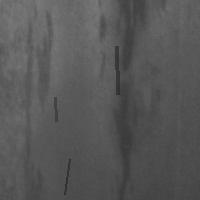inclusion: (10, 6, 53, 189), (110, 1, 144, 200), (92, 10, 114, 86), (62, 157, 71, 196), (114, 44, 119, 96), (53, 95, 58, 123)
